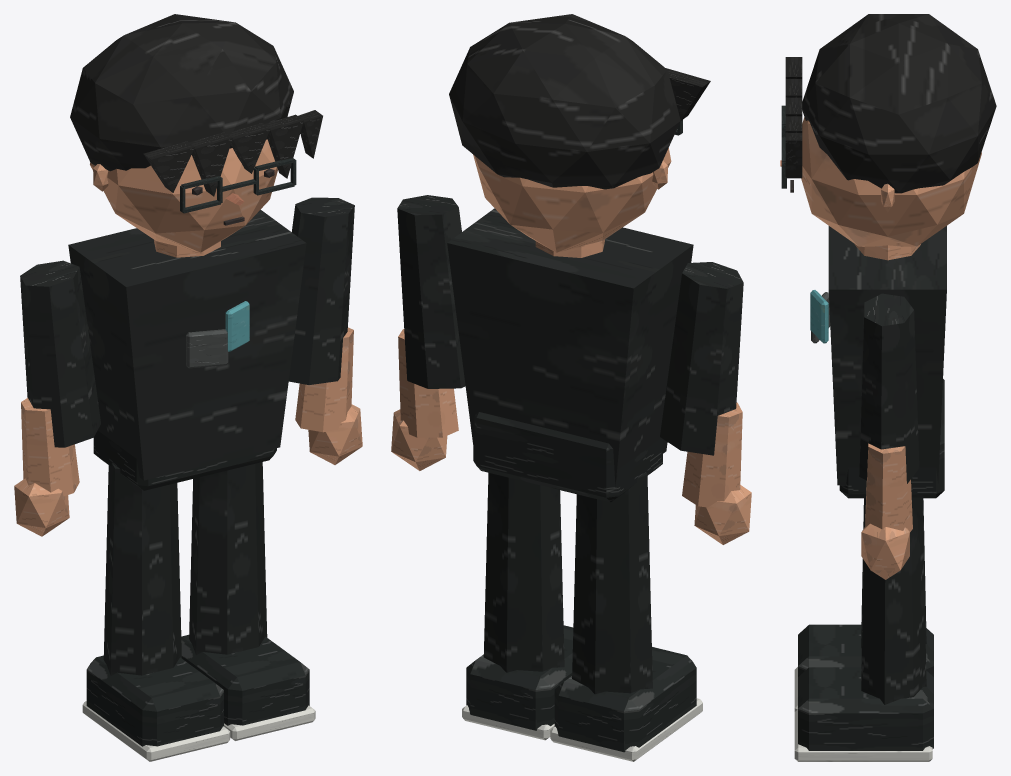
Rendered from person_04.glb.
The picture shows the model from 3 angles, left to right: view 1: azimuth 30°, elevation 25°; view 2: azimuth 150°, elevation 25°; view 3: azimuth 270°, elevation 25°; orthographic projection. The views are drawn at different scales.
Visible parts, largest first — view 1: GEO_Torso, GEO_Hair_Cap, GEO_PantsLeg_L, GEO_PantsLeg_R, GEO_UpperArm_L, GEO_UpperArm_R, GEO_Head, GEO_Shoe_L, GEO_Shoe_R, GEO_Forearm_L, GEO_Forearm_R, GEO_Waist (+11 smaller); view 2: GEO_Torso, GEO_Hair_Cap, GEO_PantsLeg_L, GEO_PantsLeg_R, GEO_UpperArm_L, GEO_UpperArm_R, GEO_Waist, GEO_Head, GEO_Shoe_L, GEO_Shoe_R, GEO_Forearm_L, GEO_Forearm_R (+6 smaller); view 3: GEO_Hair_Cap, GEO_Torso, GEO_Head, GEO_Shoe_R, GEO_PantsLeg_R, GEO_UpperArm_R, GEO_Forearm_R, GEO_Shoe_L, GEO_Hand_R, GEO_Waist, GEO_Sole_R, GEO_Chest_AbstractCyan (+4 smaller).
Part boxes in pixels (x1,y1,x2,y2): GEO_Torso: [68, 209, 306, 480]; GEO_Hair_Cap: [70, 14, 293, 171]; GEO_PantsLeg_L: [103, 463, 181, 675]; GEO_PantsLeg_R: [189, 462, 267, 655]; GEO_UpperArm_L: [20, 260, 100, 447]; GEO_UpperArm_R: [288, 197, 354, 384]; GEO_Head: [90, 139, 277, 252]; GEO_Shoe_L: [86, 655, 223, 746]; GEO_Shoe_R: [181, 634, 309, 725]; GEO_Forearm_L: [21, 398, 79, 496]; GEO_Forearm_R: [295, 327, 353, 432]; GEO_Waist: [93, 430, 276, 490]; GEO_Torso: [447, 208, 693, 487]; GEO_Hair_Cap: [449, 14, 680, 189]; GEO_PantsLeg_L: [572, 472, 652, 694]; GEO_PantsLeg_R: [483, 472, 564, 672]; GEO_UpperArm_L: [660, 262, 743, 455]; GEO_UpperArm_R: [397, 195, 465, 388]; GEO_Waist: [473, 412, 662, 502]; GEO_Head: [473, 148, 671, 252]; GEO_Shoe_L: [554, 647, 696, 752]; GEO_Shoe_R: [466, 625, 573, 730]; GEO_Forearm_L: [682, 402, 742, 507]; GEO_Forearm_R: [398, 329, 458, 437]; GEO_Hair_Cap: [802, 14, 996, 193]; GEO_Torso: [828, 226, 946, 485]; GEO_Head: [801, 117, 981, 246]; GEO_Shoe_R: [798, 667, 933, 750]; GEO_PantsLeg_R: [861, 497, 926, 704]; GEO_UpperArm_R: [859, 293, 919, 483]; GEO_Forearm_R: [865, 443, 912, 531]; GEO_Shoe_L: [798, 624, 933, 676]; GEO_Hand_R: [861, 523, 909, 579]; GEO_Waist: [839, 379, 944, 498]; GEO_Sole_R: [794, 709, 932, 761]; GEO_Chest_AbstractCyan: [810, 290, 828, 343].
Bounding box in the file's own units: 0.9999 × 1.9 × 0.5332.
1 material, 1 textured.
